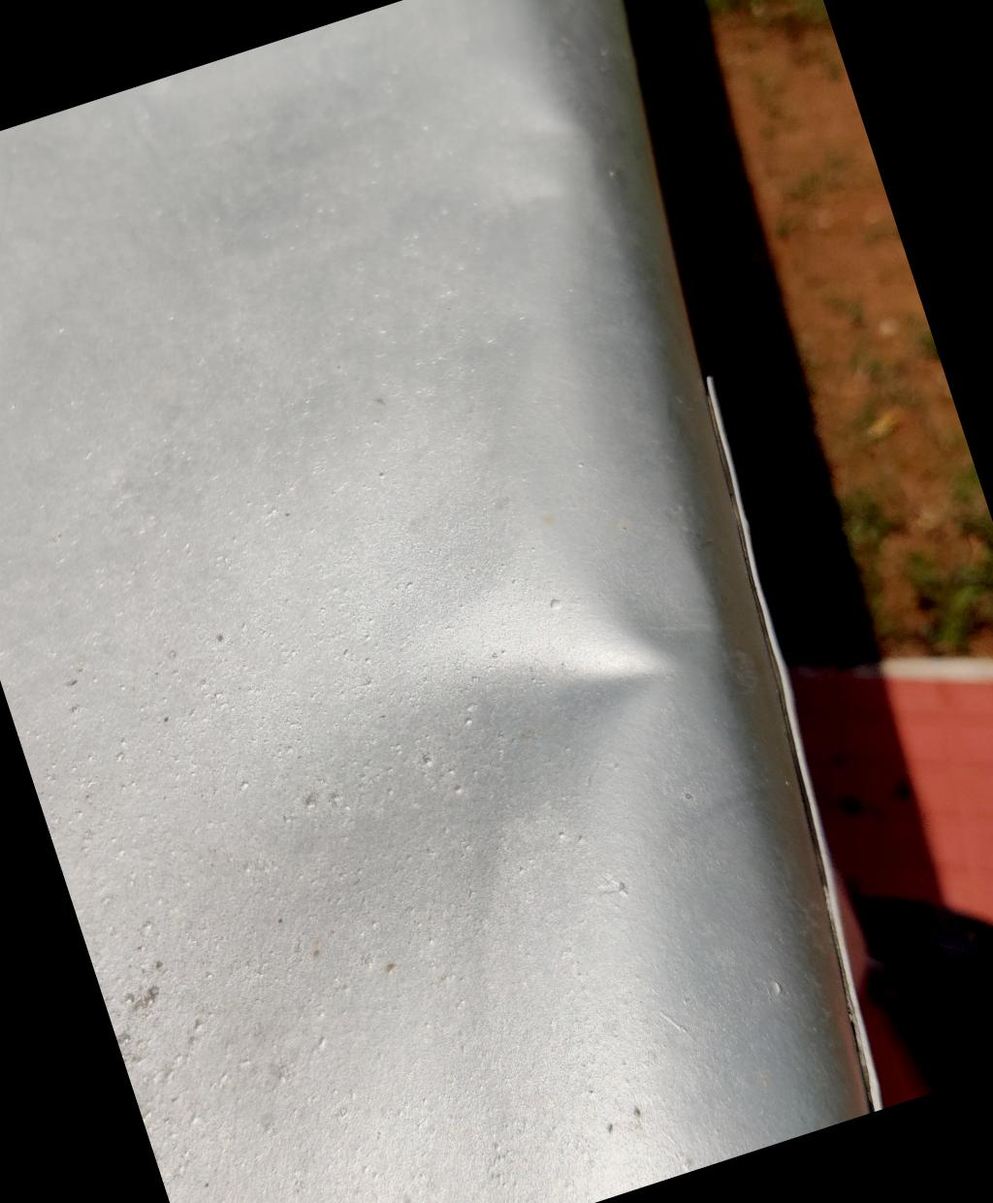dent: (394, 512, 749, 859)
